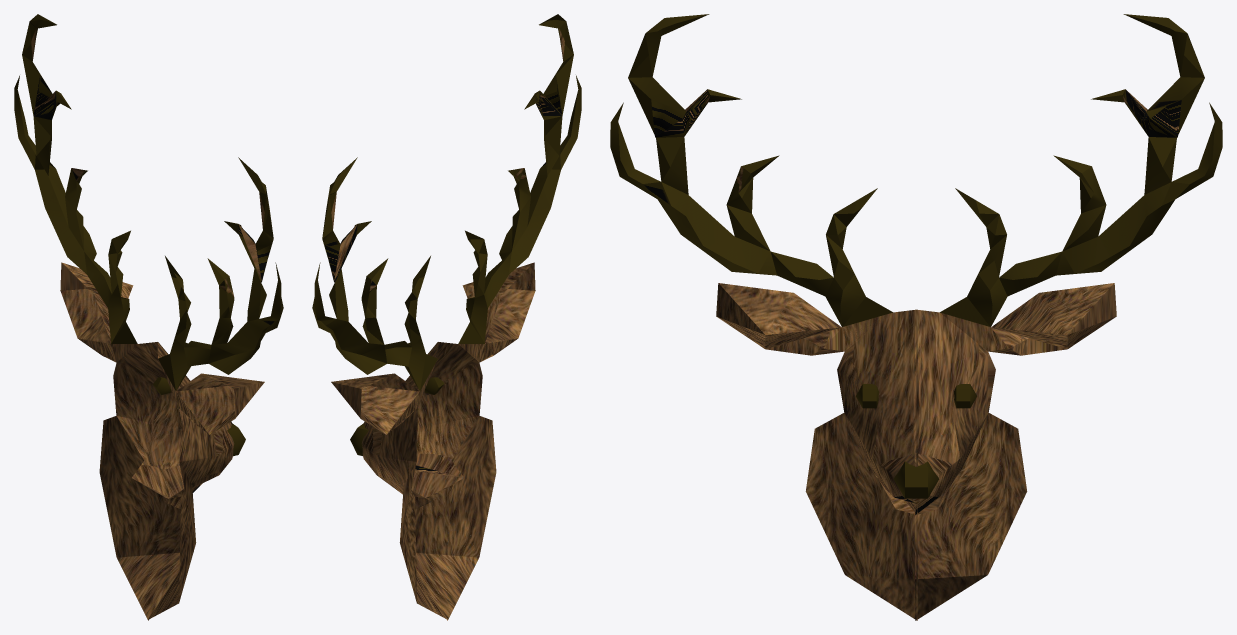
File: hirsch_final.fbx
The picture shows the model from 3 angles, left to right: view 1: azimuth 30°, elevation 25°; view 2: azimuth 150°, elevation 25°; view 3: azimuth 270°, elevation 25°; orthographic projection. The views are drawn at different scales.
Visible parts, largest first — view 1: Polygon_Objekt; view 2: Polygon_Objekt; view 3: Polygon_Objekt.
Part boxes in pixels (x1,y1,x2,y2): Polygon_Objekt: (14,14,283,620); Polygon_Objekt: (312,14,581,620); Polygon_Objekt: (610,14,1222,620).
Size of the model in its own units: 146 by 758 by 693.
1 material, 1 textured.
